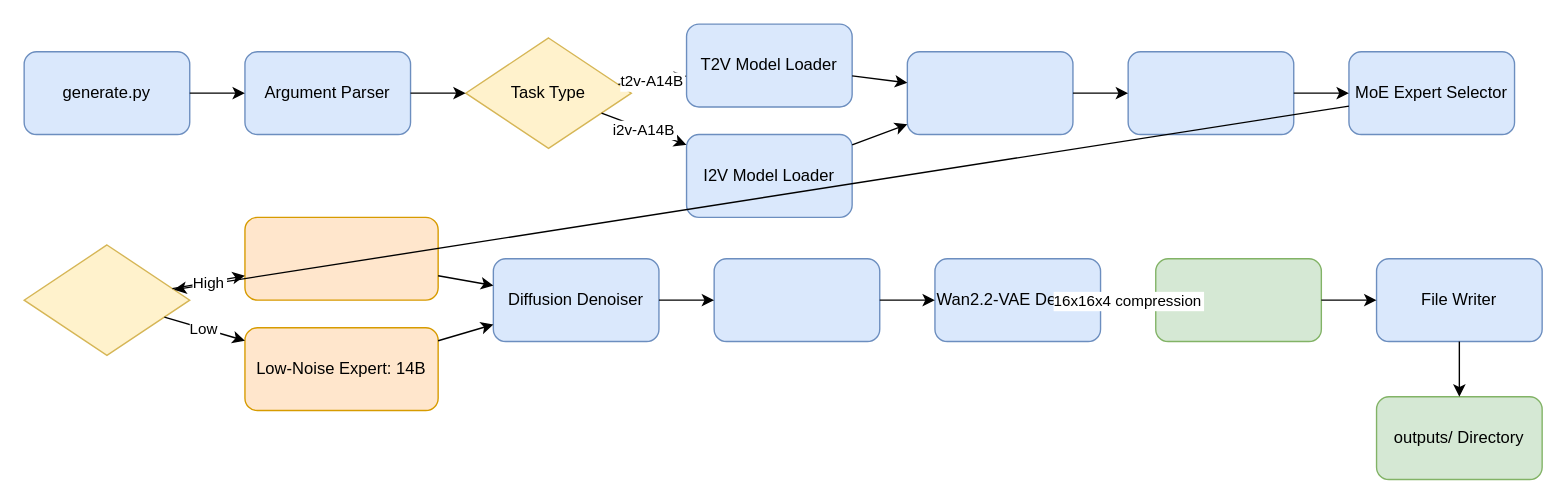
This 1566x504 diagram has some shape labels left out. Here are the shapes that lost their labels. From the top down, the centre of each, then its label:
At [989,92]: "Checkpoint Reader".
At [1210,92]: "27B Parameter Model".
At [341,258]: "High-Noise Expert: 14B".
At [106,299]: "Noise Level".
At [796,299]: "Latent Space".
At [1237,299]: "Raw Video Frames".
